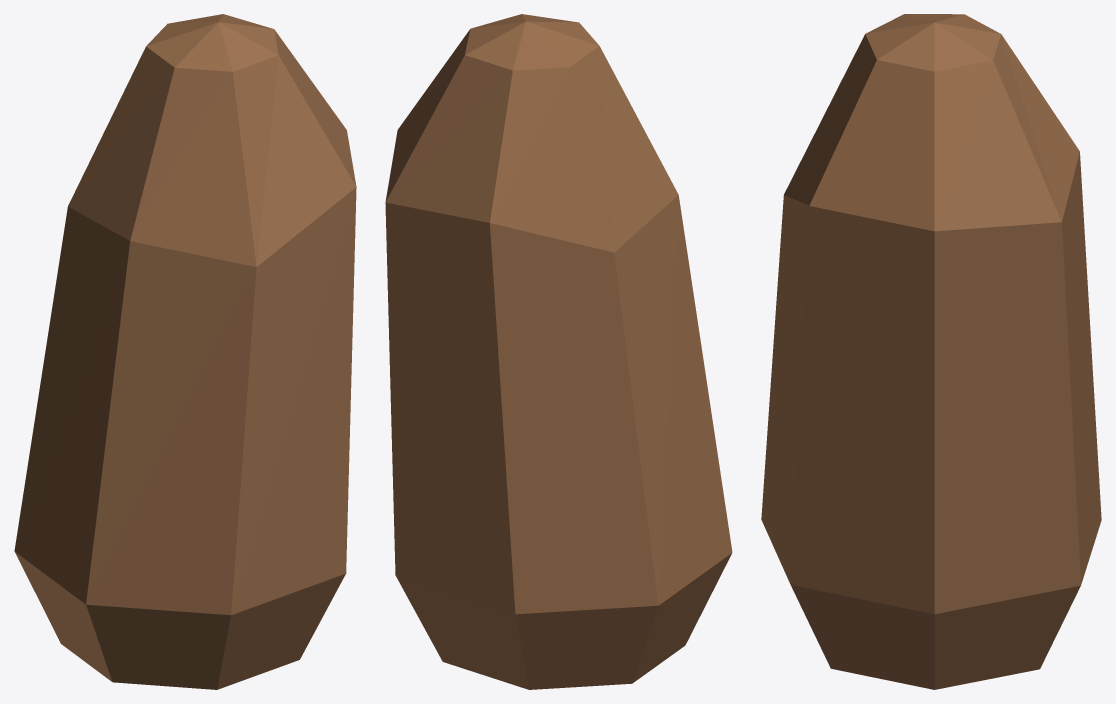
3 views of the same model, side by side, from view 1: azimuth 30°, elevation 25°; view 2: azimuth 150°, elevation 25°; view 3: azimuth 270°, elevation 25° (orthographic). The views are drawn at different scales.
Visible parts, largest first — view 1: R06_砂岩立柱; view 2: R06_砂岩立柱; view 3: R06_砂岩立柱.
Boxes of the visible parts, x1=… form: R06_砂岩立柱: x1=14, y1=14, x2=356, y2=689; R06_砂岩立柱: x1=385, y1=14, x2=732, y2=689; R06_砂岩立柱: x1=761, y1=14, x2=1101, y2=689.
Size of the model in its own units: 0.7935 by 1.55 by 0.7592.
